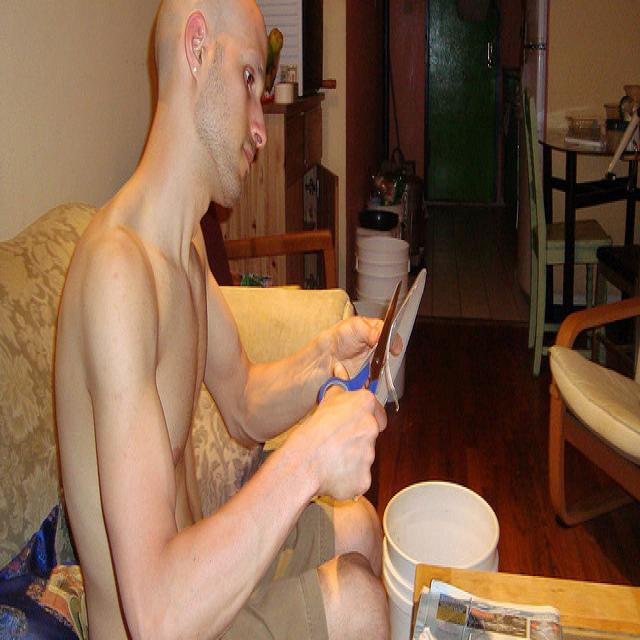chair: (522, 83, 616, 384), (547, 295, 640, 528), (200, 197, 337, 291)
dining table: (540, 128, 640, 317), (412, 568, 638, 633)
